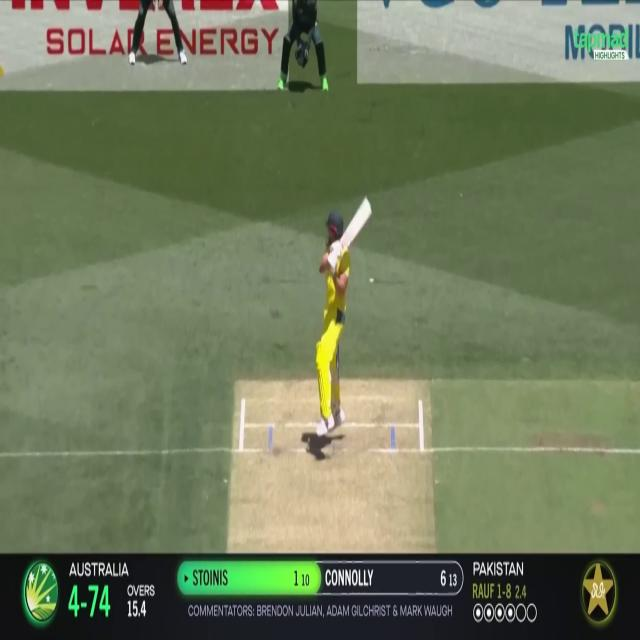Batsman: (312, 216, 364, 449)
